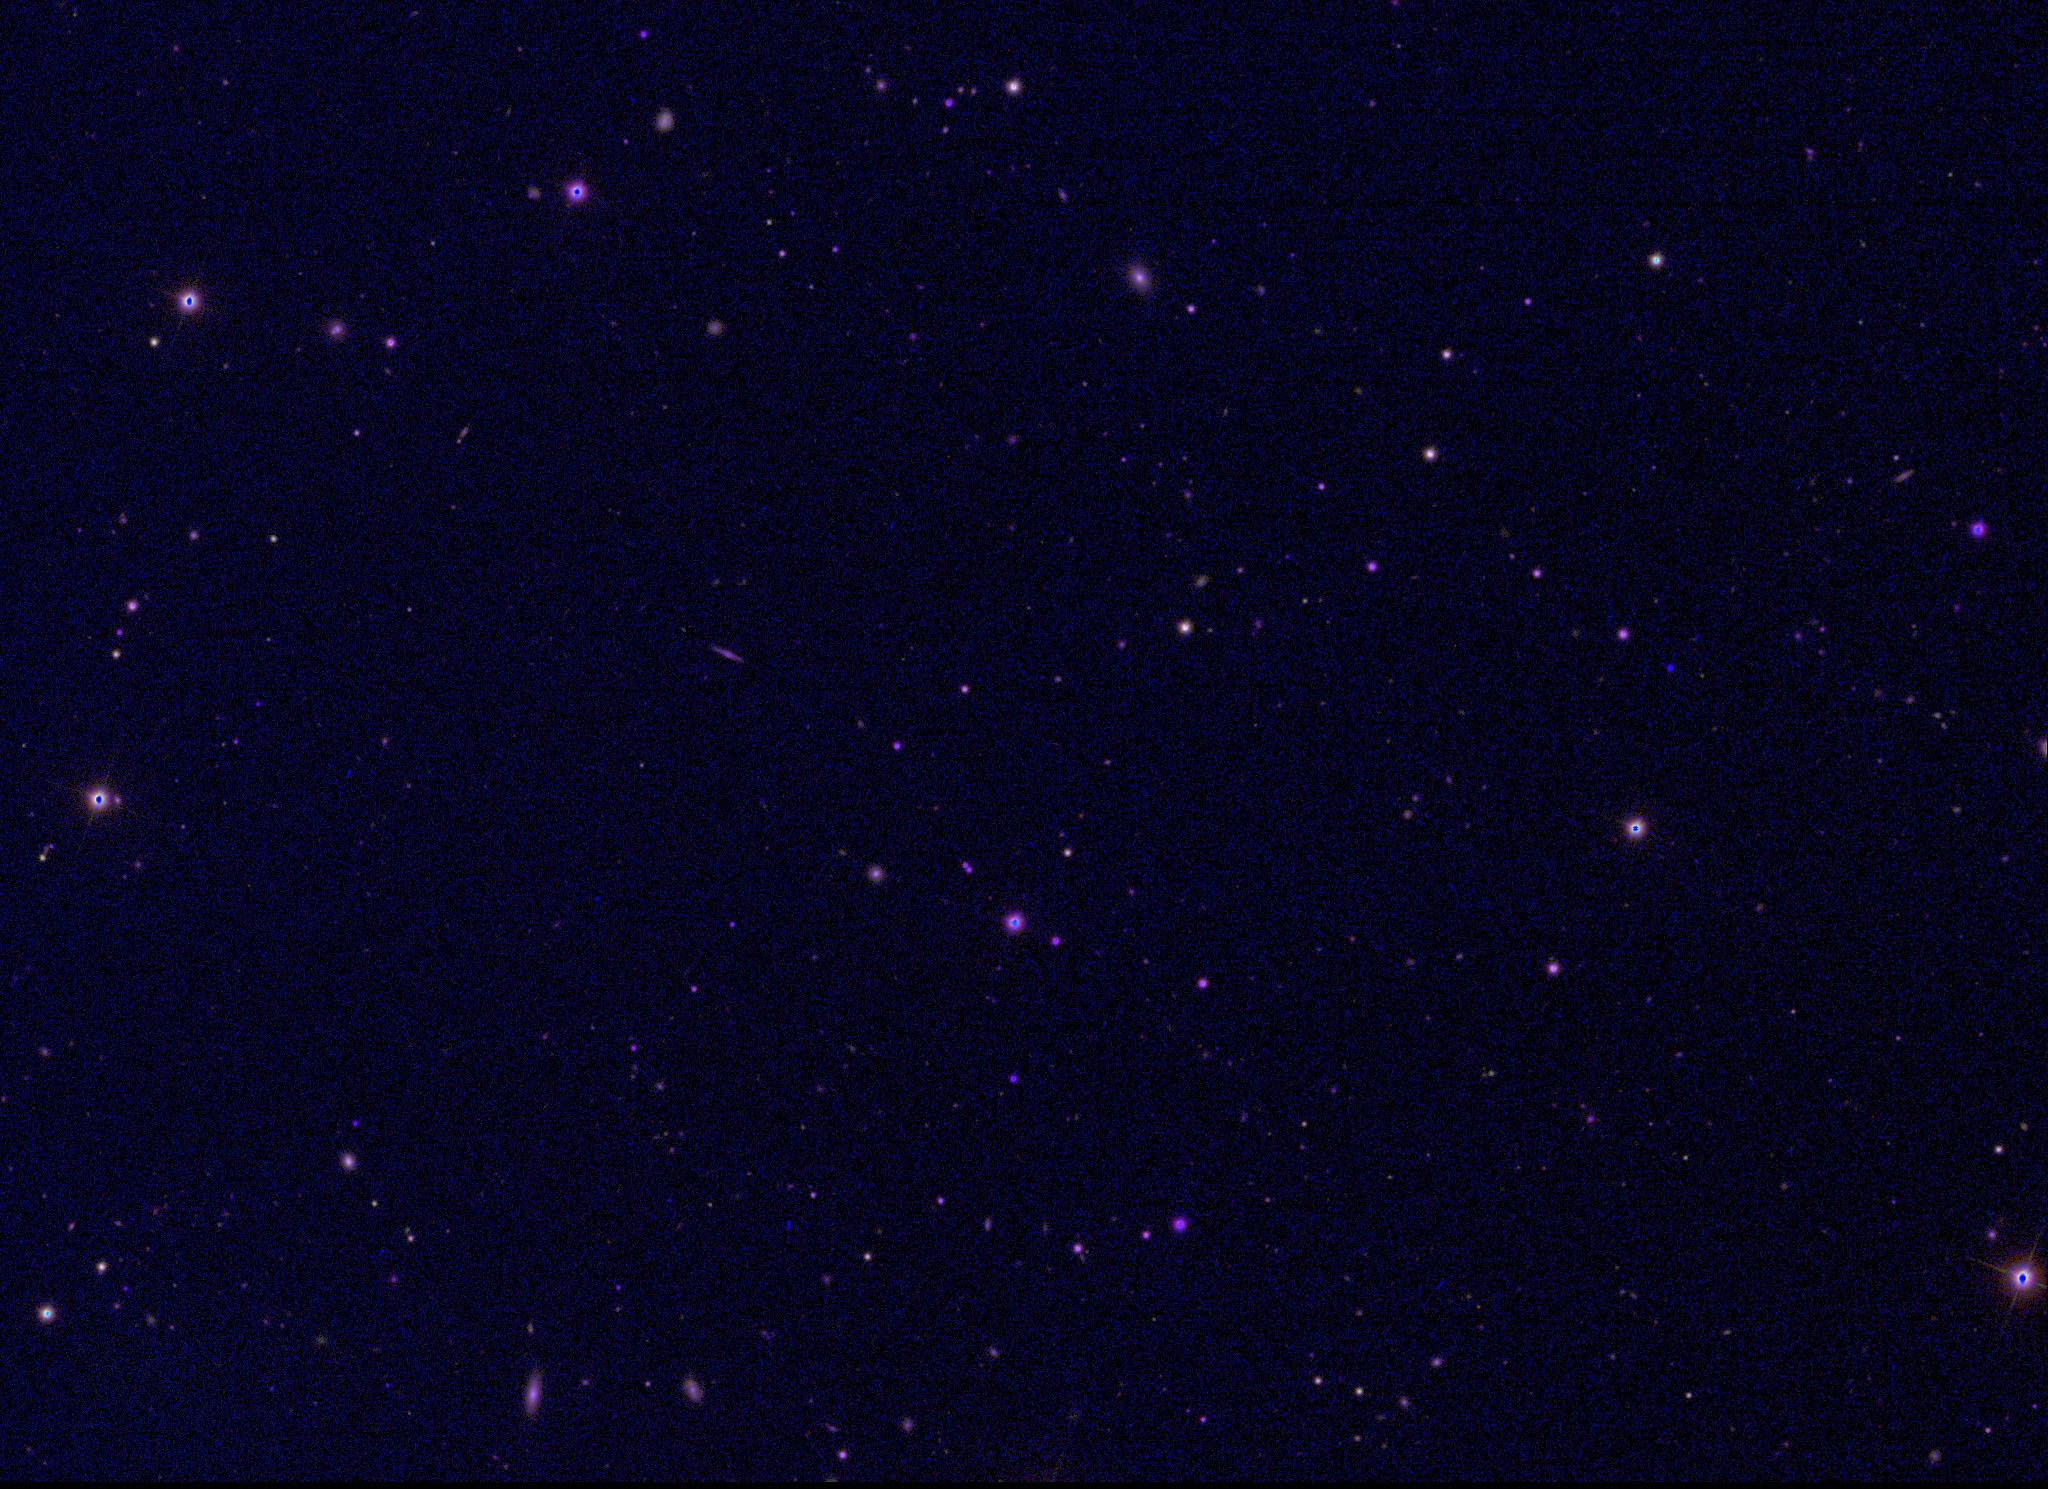L: (1663, 662, 1678, 676)
